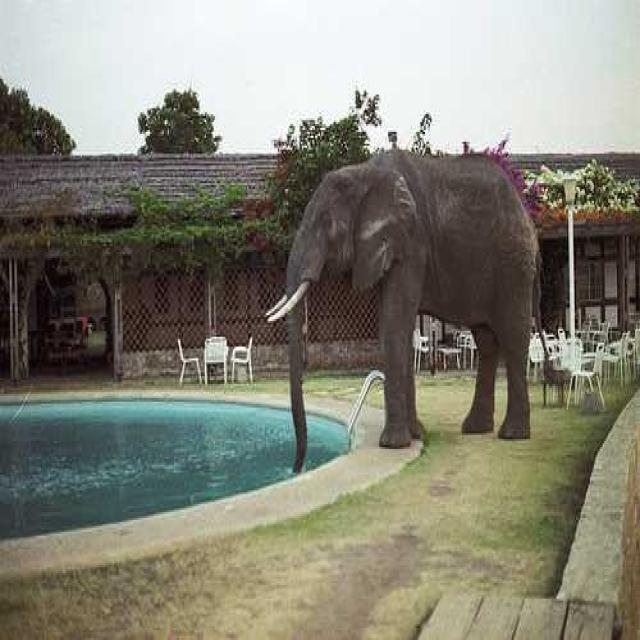Elephant: (264, 146, 542, 451)
